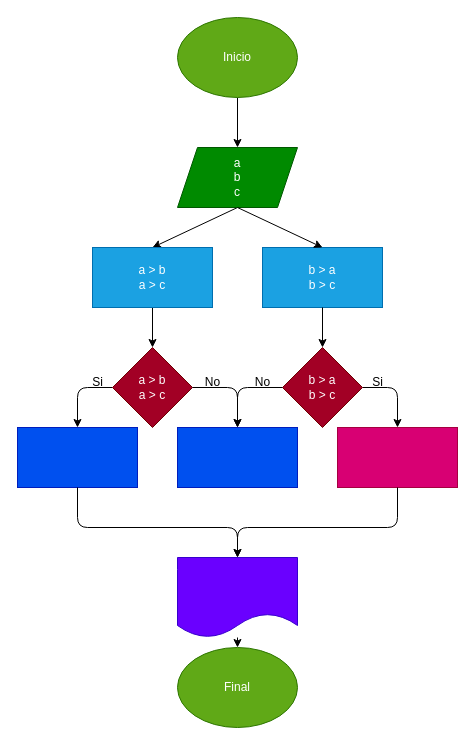
Some shapes in this 475 by 745 pixel diagram are drawn without their labels. The centre of each missing label's shape, as x and y in pixels:
rta: the point at 237,597
rta = el número a es mayor que el número b y que el número c: the point at 77,457
rta = el número b es mayor que el número a y que el número c: the point at 397,457
rta = el número c es mayor que el número a y que el número b: the point at 237,457
